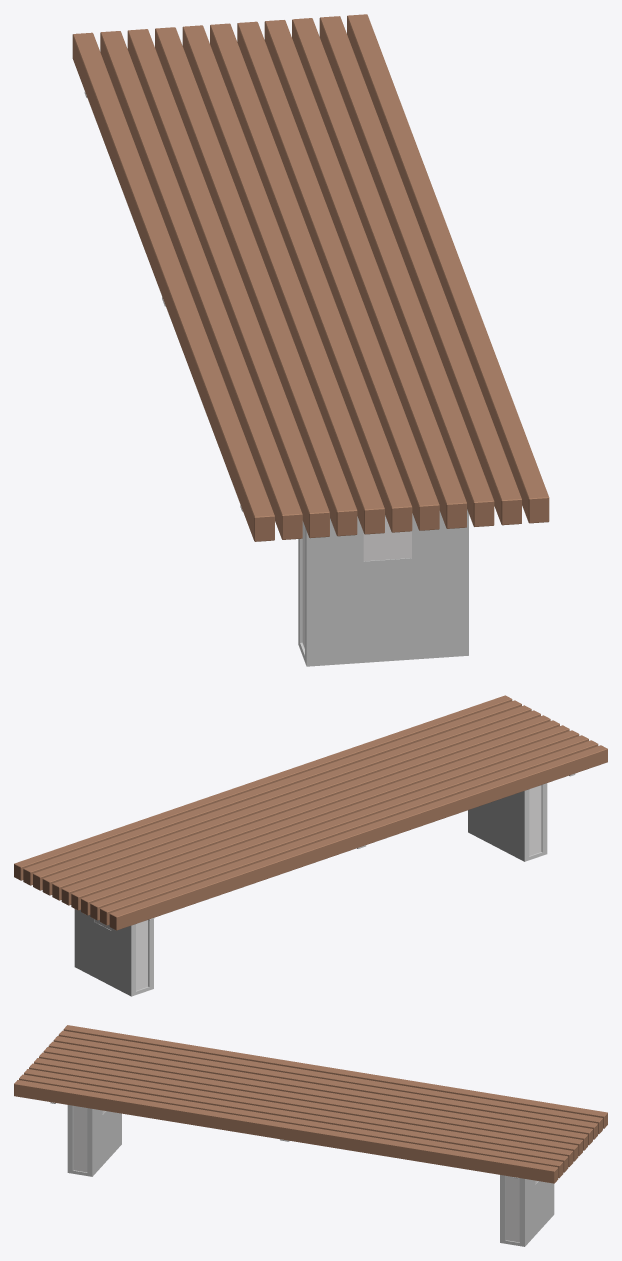
The model's file is kursitaman.gltf.
3 renders of one model, top to bottom at view 1: azimuth 30°, elevation 25°; view 2: azimuth 150°, elevation 25°; view 3: azimuth 270°, elevation 25°, orthographic. The views are drawn at different scales.
Parts seen in each view (by area): view 1: maderas_banco, bancoluz; view 2: maderas_banco, bancoluz; view 3: maderas_banco, bancoluz.
Boxes of the visible parts, box(x1,y1,x2,y2) form: maderas_banco: box(72, 14, 549, 541); bancoluz: box(84, 91, 468, 666); maderas_banco: box(14, 695, 607, 930); bancoluz: box(74, 773, 575, 996); maderas_banco: box(14, 1025, 607, 1183); bancoluz: box(50, 1102, 554, 1246).
Size of the model in its own units: 1.51 by 0.4611 by 2.6.
